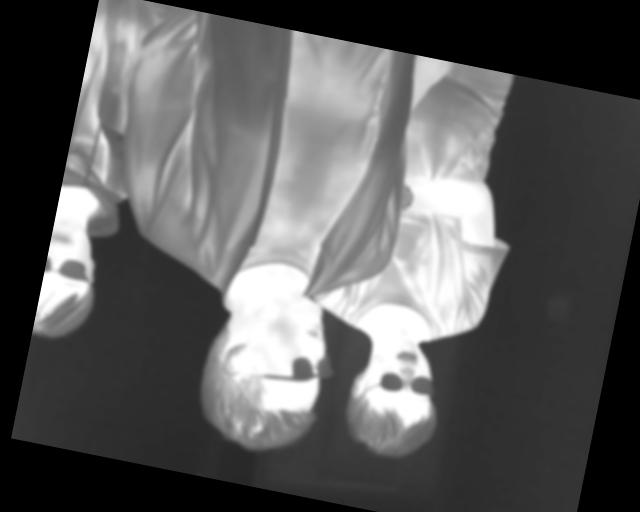face: (186, 279, 340, 464), (339, 329, 449, 467), (32, 217, 108, 346)
